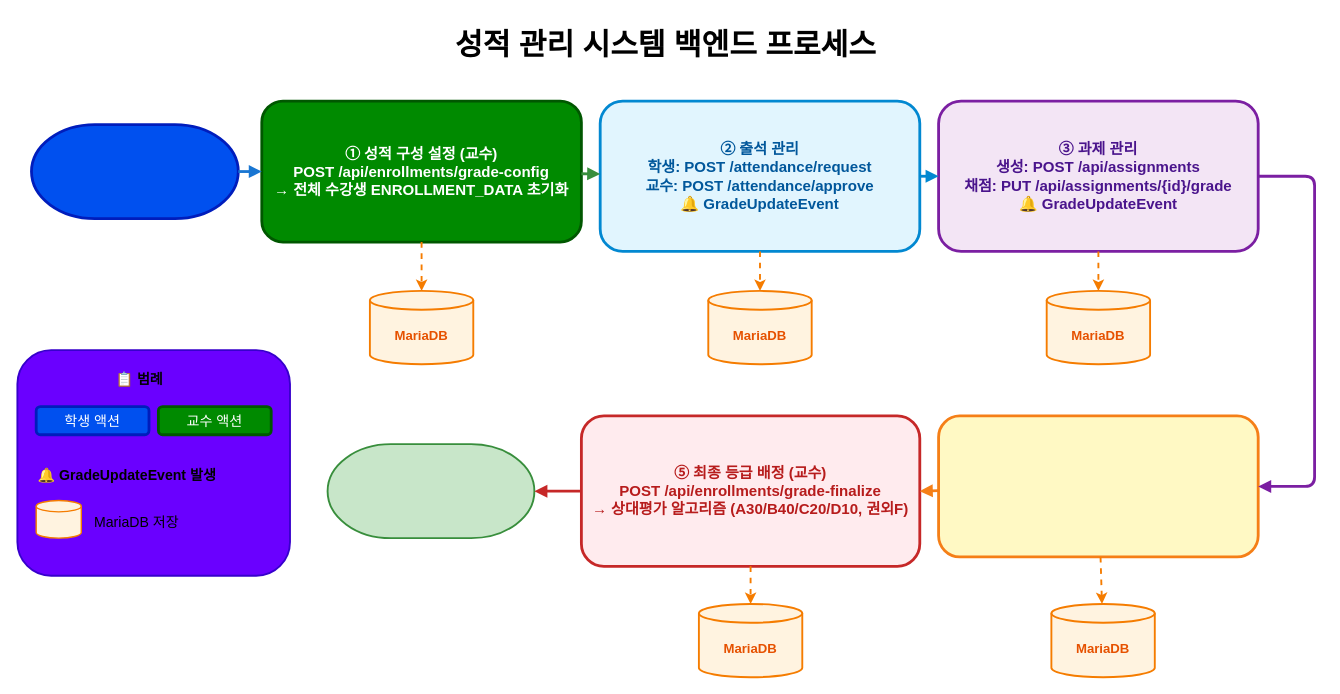
The diagram is 1340 pixels wide and 694 high, and some of its shapes have lost their labels. Each missing label, with the centre of its shape:
④ 성적 조회 학생: POST /enrollments/grade-info 교수: POST /enrollments/grade-list: point 1098,486
수강신청 완료: point 134,171
학기 종료: point 430,491
